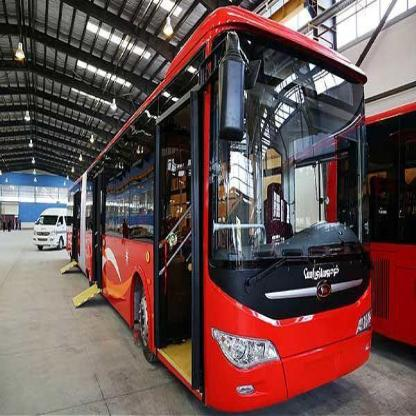Bus: (65, 32, 384, 399), (346, 93, 416, 378)
Car: (30, 197, 76, 262)
